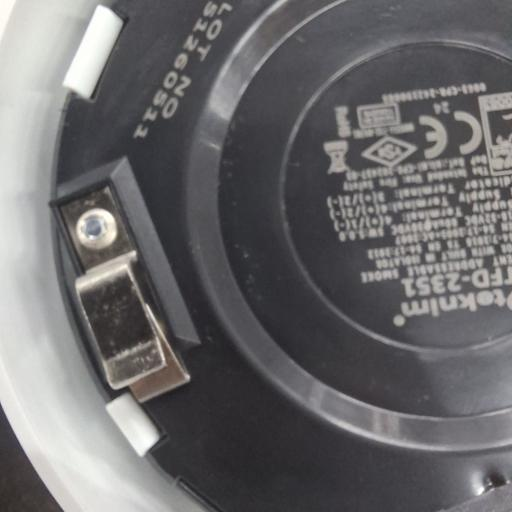yayli: (51, 178, 190, 401)
